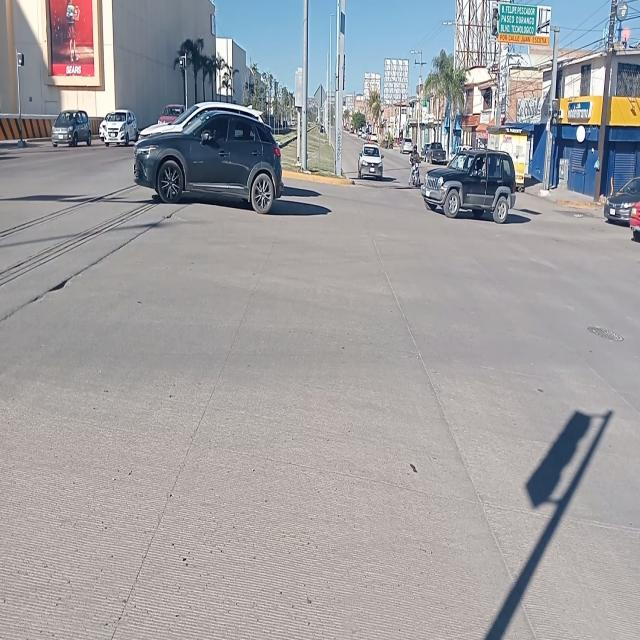Auto: (133, 109, 286, 218), (422, 146, 523, 227), (50, 105, 96, 150), (352, 142, 388, 184), (101, 106, 139, 145)
